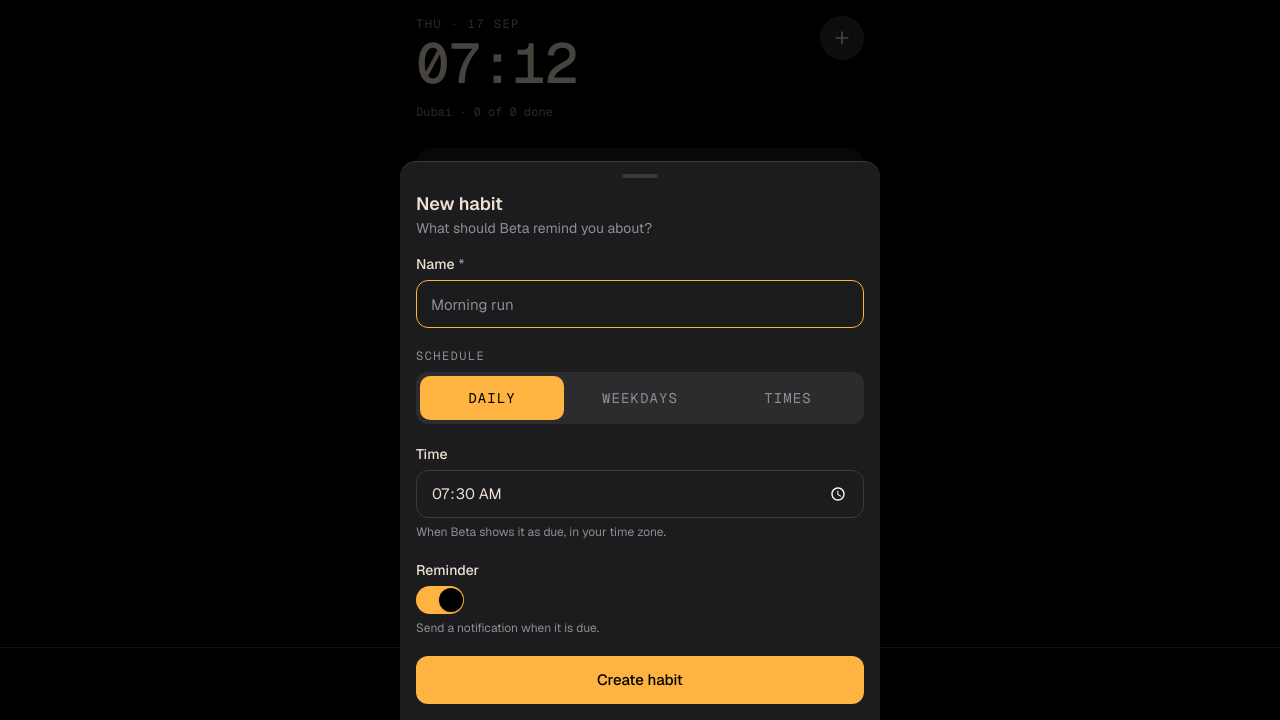
Scenario: Habit form › keeps the sheet open and sends nothing when the name is empty
The image size is (1280, 720).
Step 1. Click the button named "Create habit" → (640, 680), box [416, 656, 864, 704]
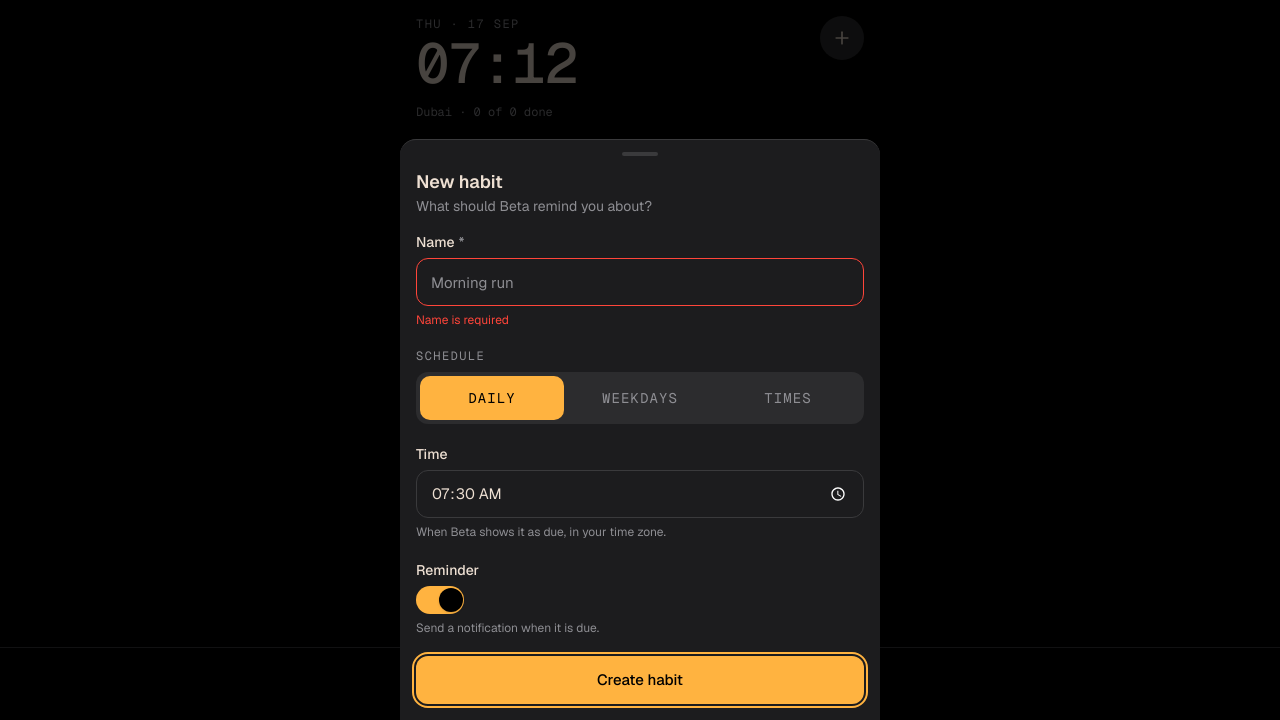
expect the dialog "New habit" is shown: met, box [400, 139, 880, 719]
expect the message reads "Name is required": met, box [416, 312, 509, 328]
